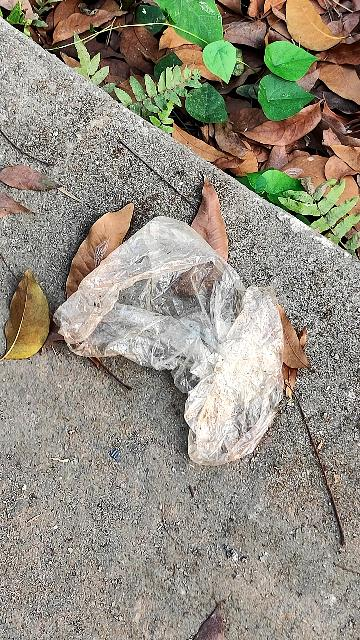polythene: (58, 210, 295, 469)
